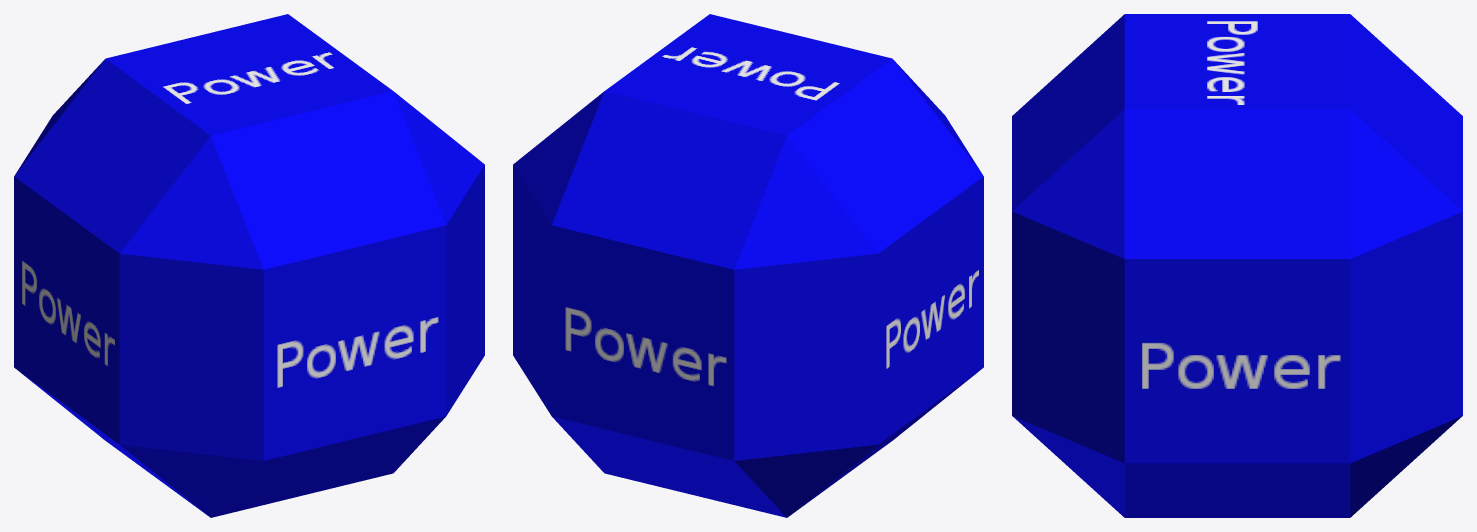
File: PowerCell.obj
3 views of the same model, side by side, from view 1: azimuth 30°, elevation 25°; view 2: azimuth 150°, elevation 25°; view 3: azimuth 270°, elevation 25° (orthographic). The views are drawn at different scales.
Visible parts, largest first — view 1: pCube1; view 2: pCube1; view 3: pCube1.
Part boxes in pixels (x1,y1,x2,y2): pCube1: [14, 14, 484, 517]; pCube1: [513, 14, 983, 517]; pCube1: [1012, 14, 1462, 517].
Size of the model in its own units: 8.28 by 8.28 by 8.28.
